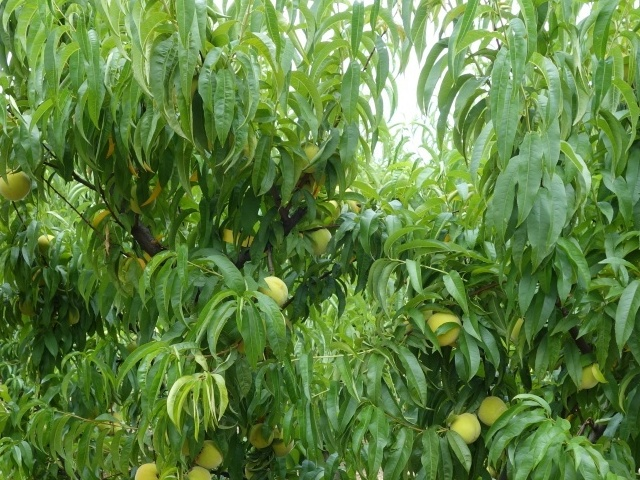peach: (443, 406, 486, 446), (422, 307, 463, 345), (473, 393, 509, 431), (191, 437, 227, 473), (259, 271, 291, 309), (302, 223, 337, 257), (1, 167, 34, 202), (297, 140, 325, 176), (267, 427, 298, 457), (247, 421, 275, 451), (574, 362, 599, 392), (589, 358, 611, 387), (133, 461, 165, 480), (180, 464, 216, 480), (33, 233, 56, 255)
